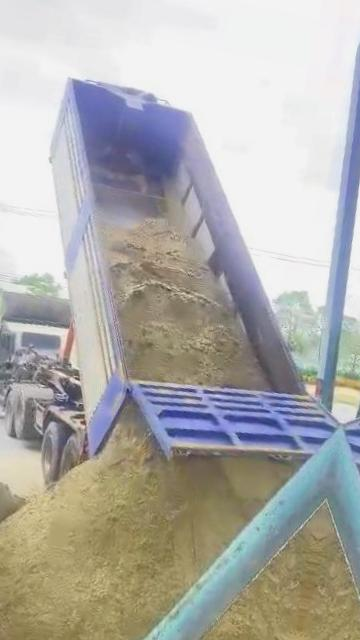sand: (0, 410, 293, 640), (100, 219, 268, 389), (146, 511, 323, 640), (0, 451, 21, 560)
